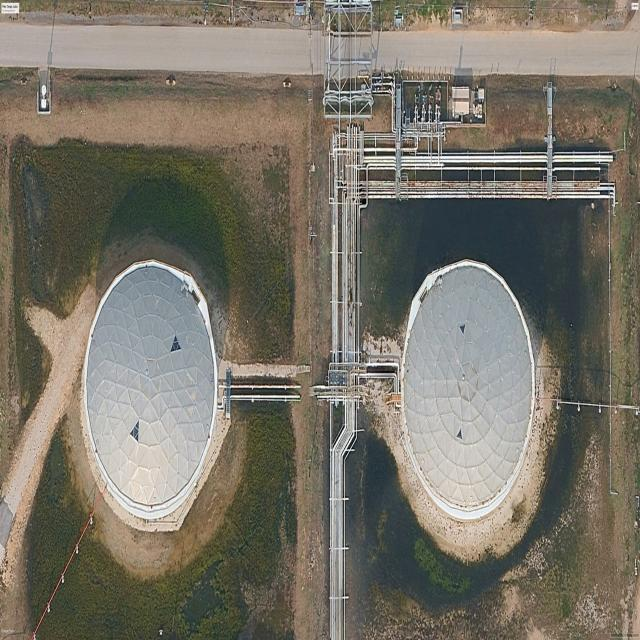Oil Rafinery: (83, 261, 218, 520), (401, 260, 535, 520)
